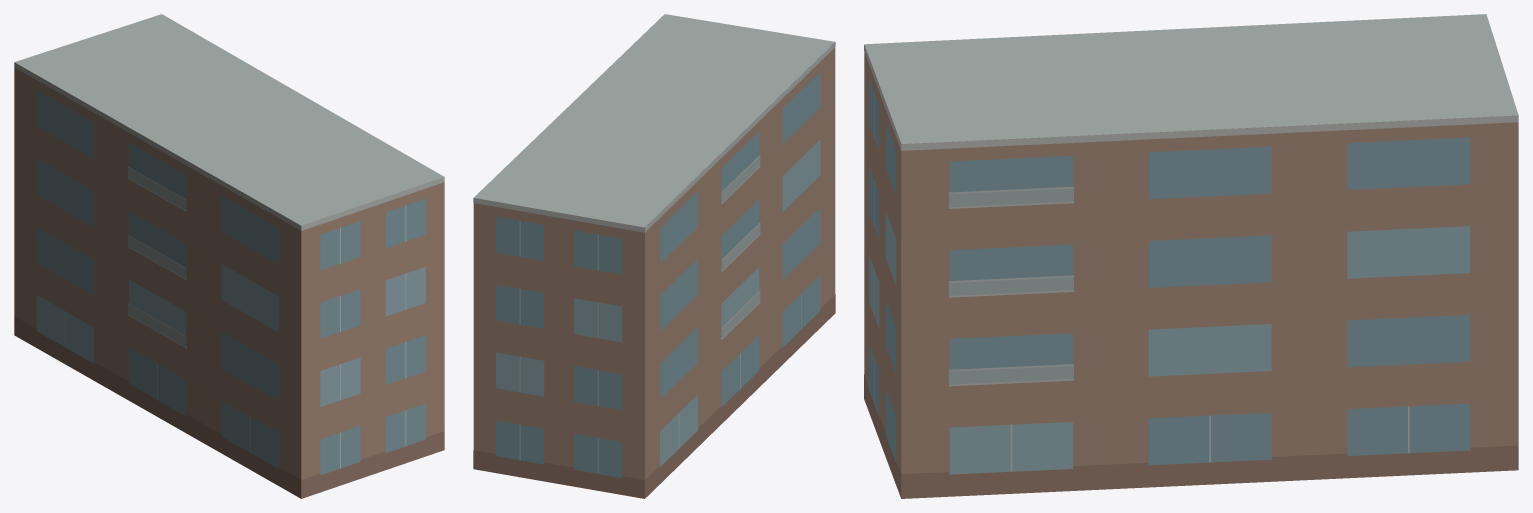
Rendered from survey-upis-32720433.glb.
The picture shows the model from 3 angles, left to right: view 1: azimuth 30°, elevation 25°; view 2: azimuth 150°, elevation 25°; view 3: azimuth 270°, elevation 25°; orthographic projection. The views are drawn at different scales.
Visible parts, largest first — view 1: survey-upis-32720433.tmp; view 2: survey-upis-32720433.tmp; view 3: survey-upis-32720433.tmp.
Boxes of the visible parts, <box> form: survey-upis-32720433.tmp: <box>14,14,444,498</box>; survey-upis-32720433.tmp: <box>473,14,835,498</box>; survey-upis-32720433.tmp: <box>864,14,1518,498</box>.
Bounding box in the file's own units: 10.08 × 12.8 × 21.41.
